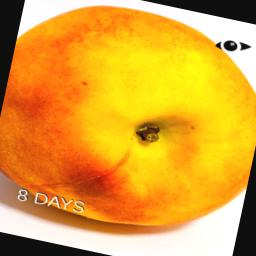Peach Unripe: (0, 0, 256, 251)
